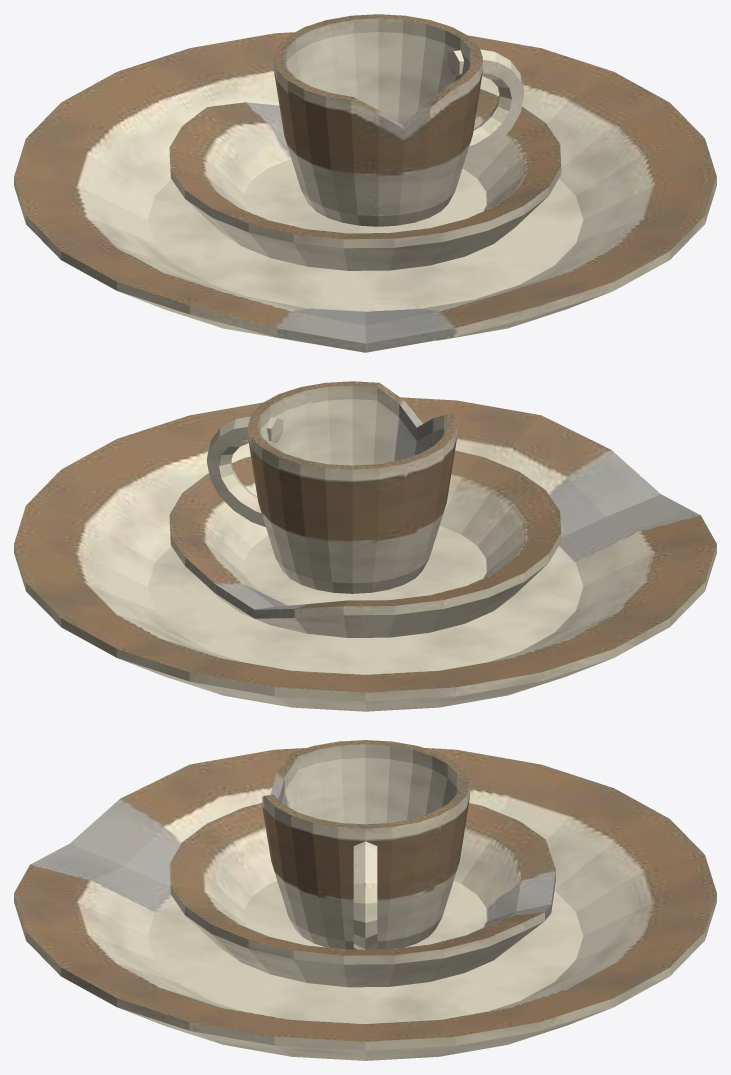
The model's file is K19_plates_and_cups_set_v2.glb.
3 renders of one model, top to bottom at view 1: azimuth 30°, elevation 25°; view 2: azimuth 150°, elevation 25°; view 3: azimuth 270°, elevation 25°, orthographic.
Visible parts, largest first — view 1: Chipped dinner plate; view 2: Chipped dinner plate; view 3: Chipped dinner plate.
Part boxes in pixels (<box>): Chipped dinner plate: <box>14,14,716,352</box>; Chipped dinner plate: <box>14,381,716,711</box>; Chipped dinner plate: <box>14,740,716,1060</box>.
Size of the model in its own units: 0.3 by 0.083 by 0.3.
3 materials, 3 textured.
